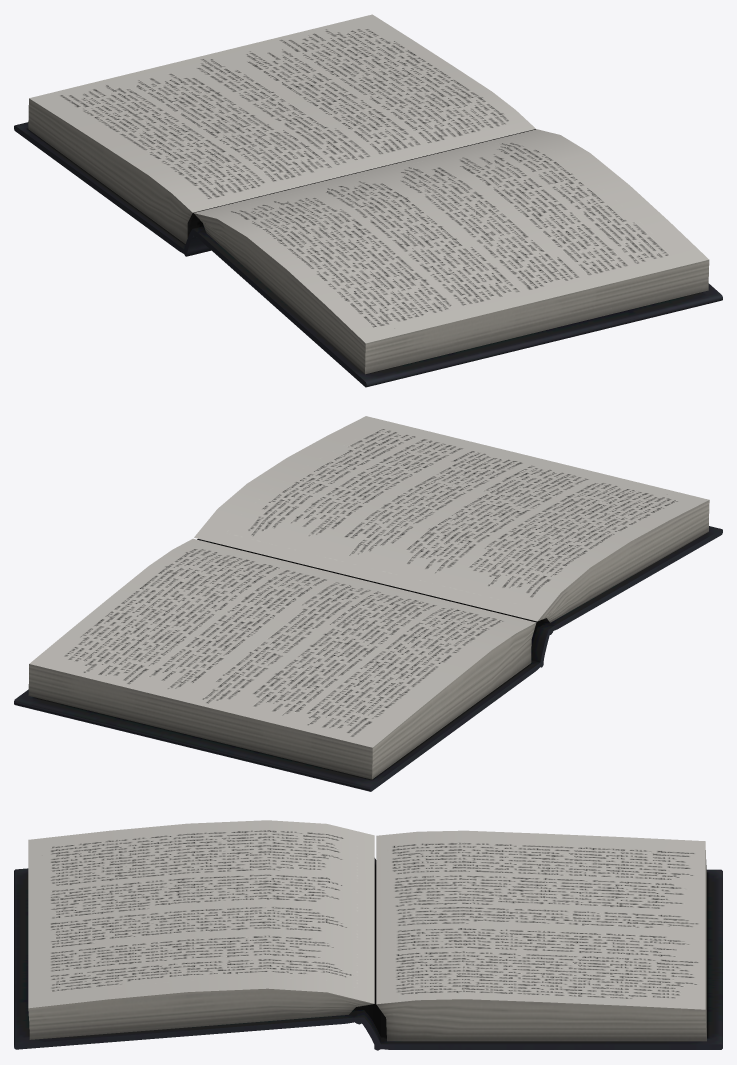
Rendered from book.gltf.
3 renders of one model, top to bottom at view 1: azimuth 30°, elevation 25°; view 2: azimuth 150°, elevation 25°; view 3: azimuth 270°, elevation 25°, orthographic.
Visible parts, largest first — view 1: book_a_open; view 2: book_a_open; view 3: book_a_open.
Part boxes in pixels (x1,y1,x2,y2): book_a_open: (14,14,722,387); book_a_open: (14,416,722,791); book_a_open: (14,820,722,1050).
Size of the model in its own units: 20.1 by 3.15 by 34.45.
2 materials, 2 textured.
